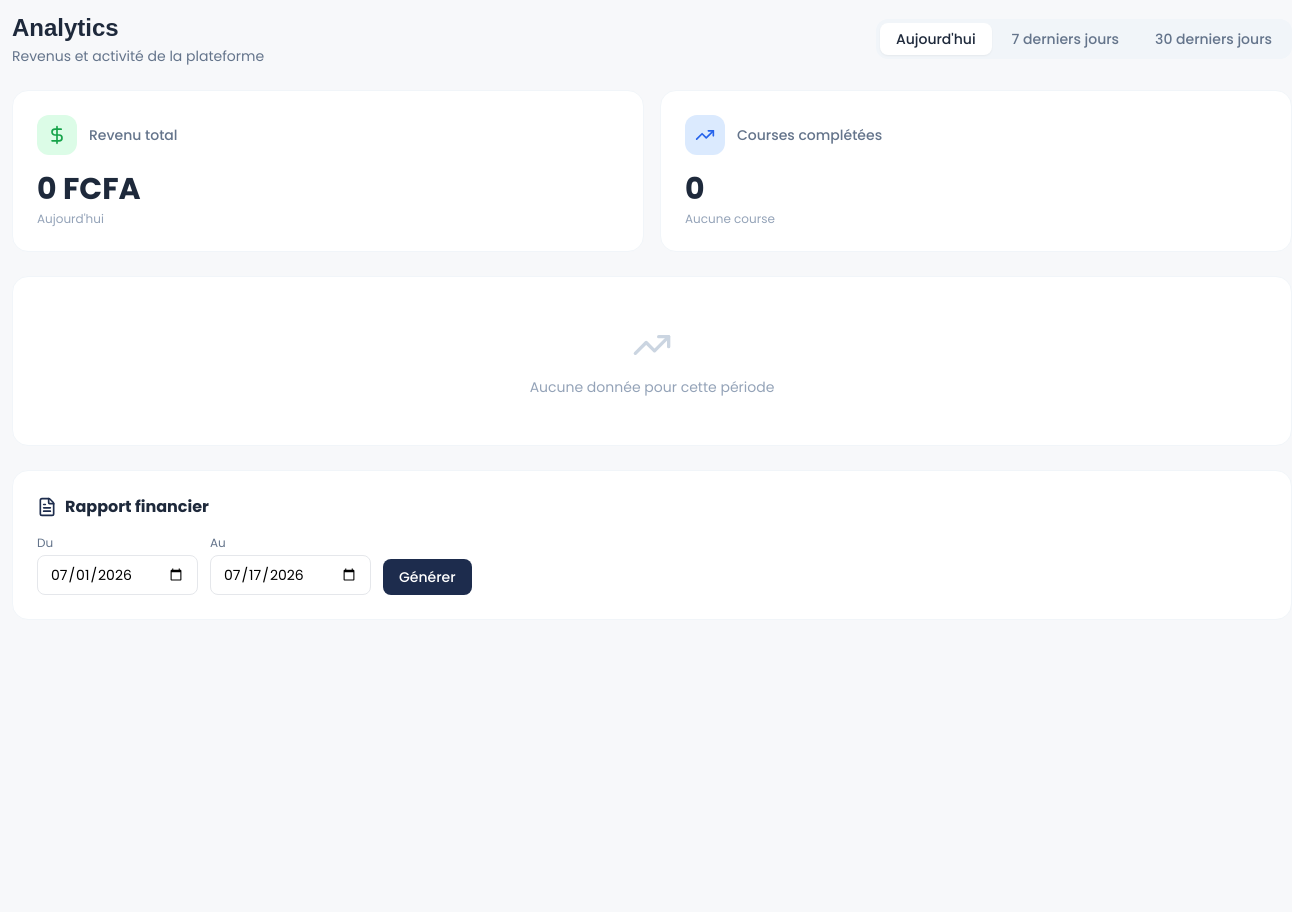
Test: AnalyticsPage › appelle getFinancialReport au clic sur Générer et affiche les données
Click the button "Générer" at x=427, y=577, box [383,559,472,595]
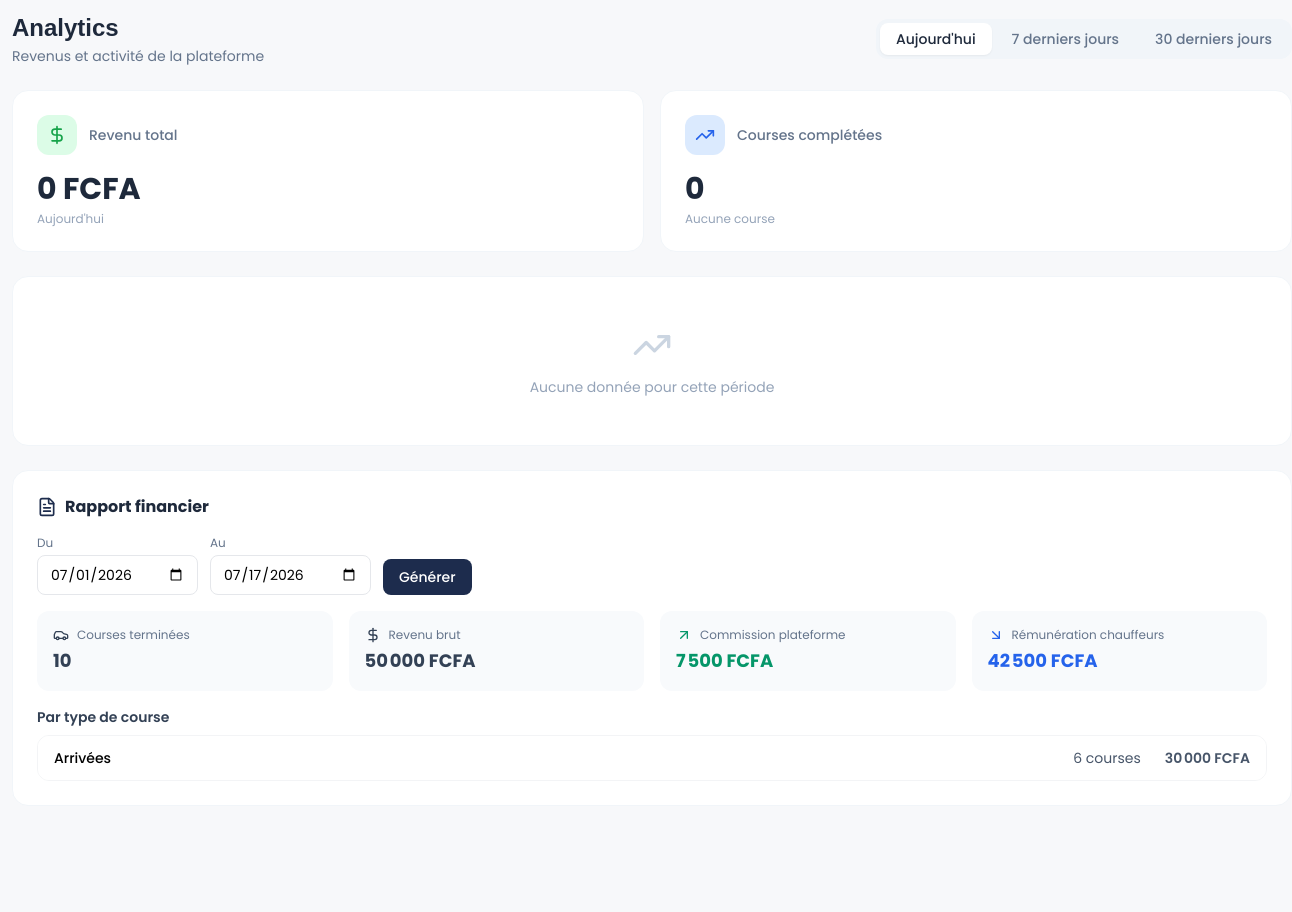
Check: the text "7 500 FCFA" is shown, box [676,648,773,673]
